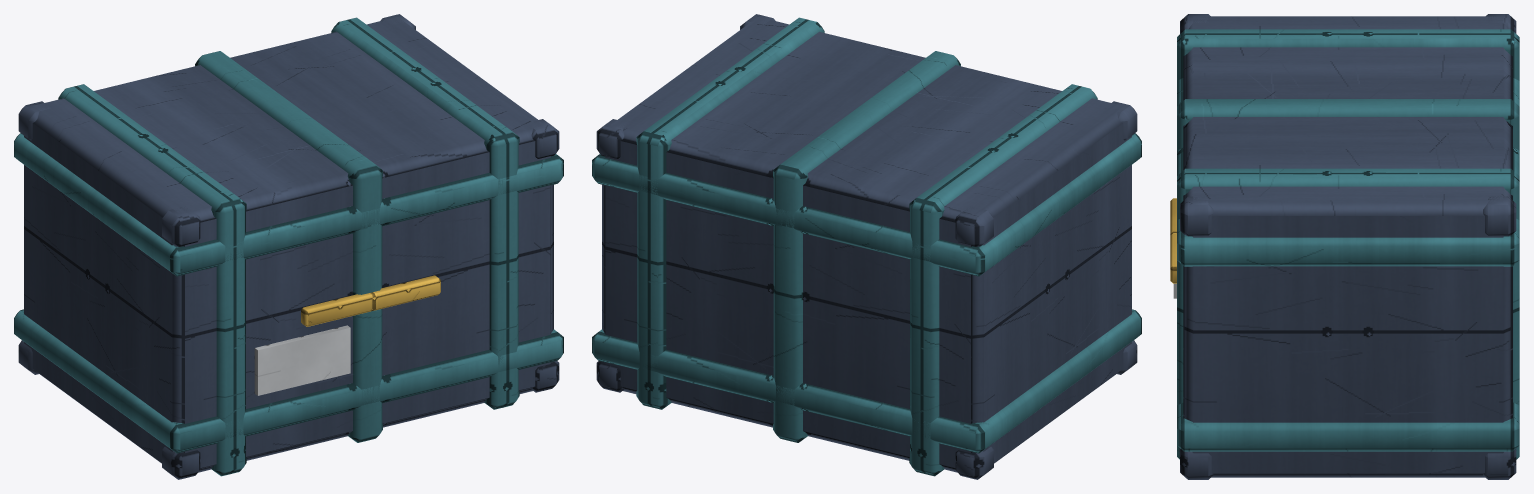
File: supply_crate_body.glb
3 renders of one model, left to right at view 1: azimuth 30°, elevation 25°; view 2: azimuth 150°, elevation 25°; view 3: azimuth 270°, elevation 25°, orthographic. The views are drawn at different scales.
Visible parts, largest first — view 1: DL018_SupplyCrateBody_graphite_navy, DL018_SupplyCrateBody_teal_shell, DL018_SupplyCrateBody_hull_offwhite, DL018_SupplyCrateBody_amber_accent; view 2: DL018_SupplyCrateBody_graphite_navy, DL018_SupplyCrateBody_teal_shell; view 3: DL018_SupplyCrateBody_graphite_navy, DL018_SupplyCrateBody_teal_shell, DL018_SupplyCrateBody_amber_accent.
Boxes of the visible parts, x1,y1,x2,y2 form: DL018_SupplyCrateBody_graphite_navy: [18, 14, 559, 479]; DL018_SupplyCrateBody_teal_shell: [14, 17, 563, 476]; DL018_SupplyCrateBody_hull_offwhite: [254, 325, 350, 395]; DL018_SupplyCrateBody_amber_accent: [301, 275, 440, 326]; DL018_SupplyCrateBody_graphite_navy: [596, 14, 1137, 479]; DL018_SupplyCrateBody_teal_shell: [592, 17, 1141, 476]; DL018_SupplyCrateBody_graphite_navy: [1180, 14, 1516, 479]; DL018_SupplyCrateBody_teal_shell: [1177, 29, 1519, 459]; DL018_SupplyCrateBody_amber_accent: [1170, 198, 1176, 283].
Size of the model in its own units: 1.44 by 0.96 by 1.06.
4 materials, 4 textured.
